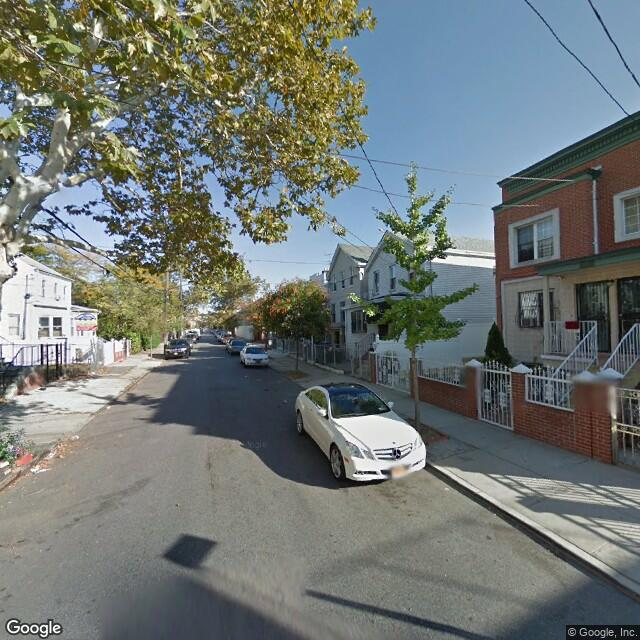litter: (16, 452, 59, 480), (80, 362, 108, 381), (104, 401, 124, 420), (279, 389, 302, 402)
